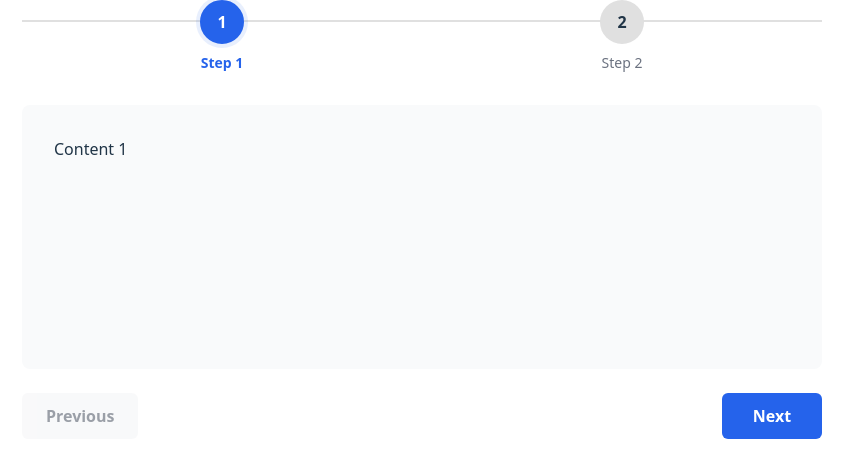
Stepper Compound Component › navigates steps with Next/Previous buttons
This screenshot has width=845, height=456.
Expected: the text "Content 1" is shown, [22,105,822,369]
# Click Next button
Click the button "Next" at (772, 416), box [722,393,822,439]
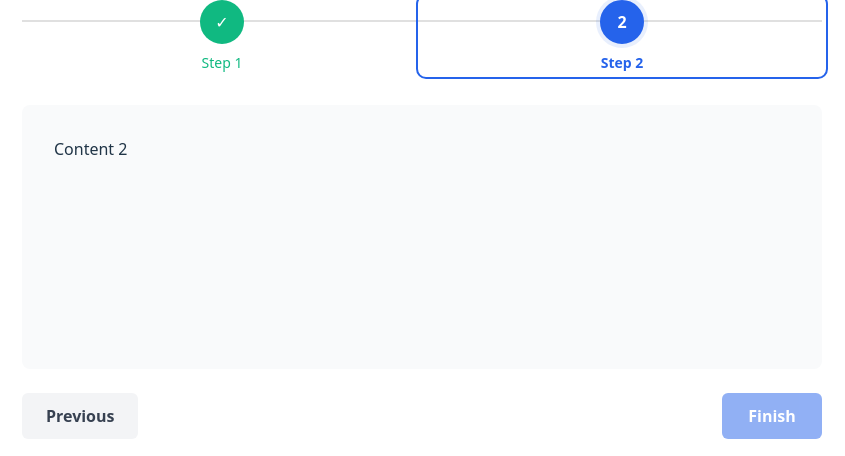
Now the text "Content 2" is shown, box [22,105,822,369]
Now the text "Content 1" is gone
# Click Previous button
Click the button "Previous" at (80, 416), box [22,393,138,439]
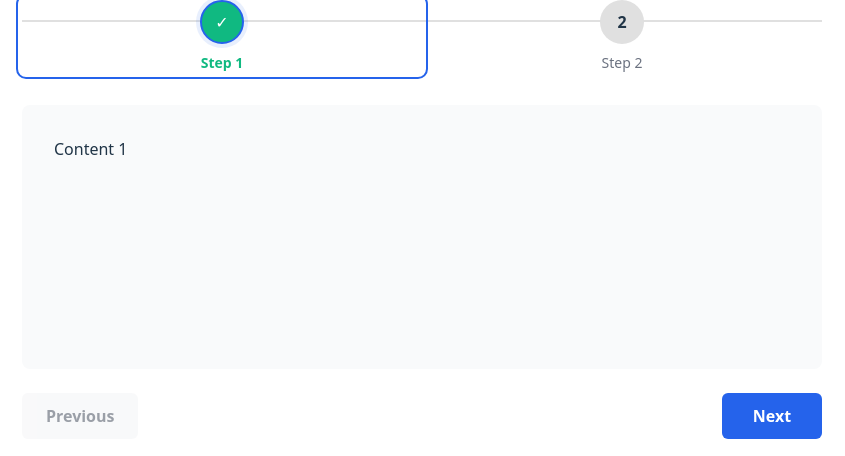
Now the text "Content 1" is shown, box [22,105,822,369]
Now the text "Content 2" is gone
